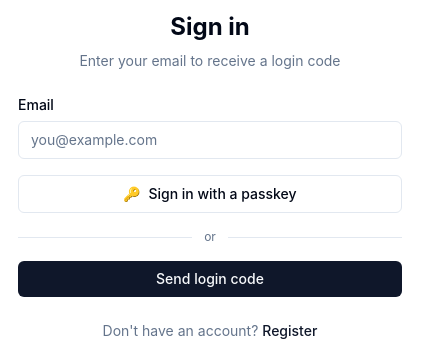
LoginPage › returns to email step when back button is clicked in PIN step
This screenshot has width=421, height=356.
Type "test@example.com" into the field with id "email" at (210, 140), box [18,121,402,159]
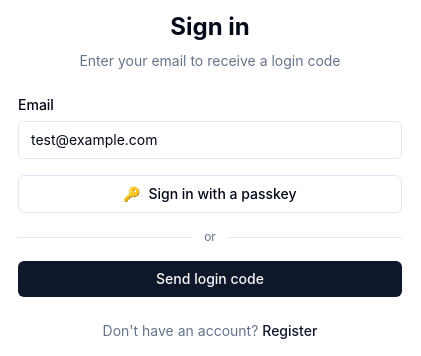
Submit the form, box [18,95,402,297]
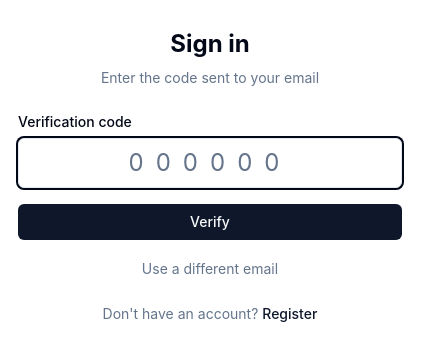
Check: the field labelled "Verification code" is shown, box [18,138,402,188]
Click the button "Use a different email" at (210, 269), box [18,259,402,279]
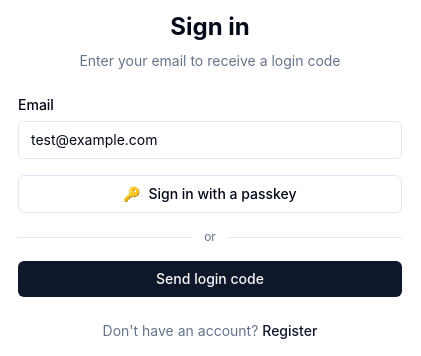
Check: the field with id "email" is shown, box [18,121,402,159]
